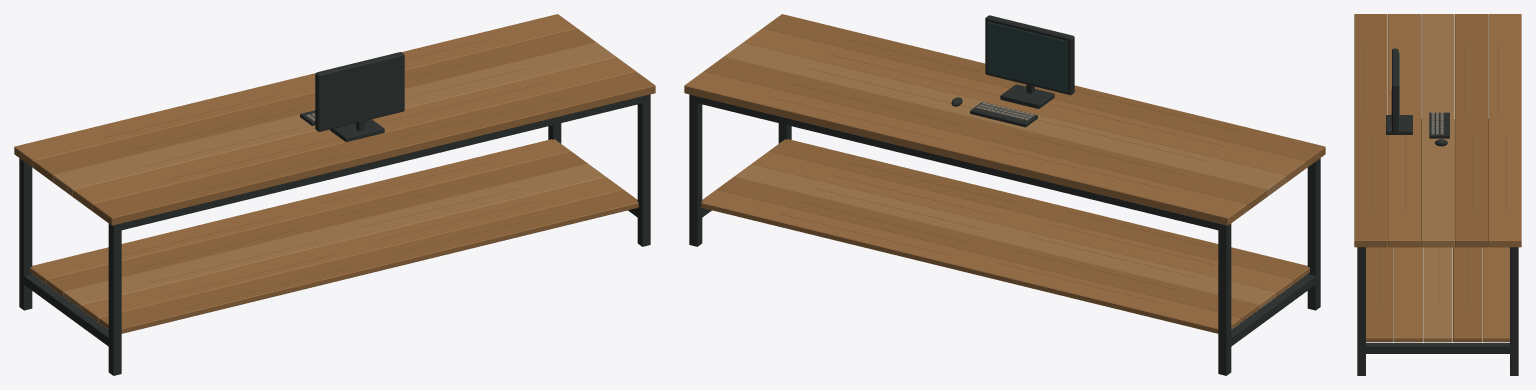
Rendered from workbench.glb.
3 renders of one model, left to right at view 1: azimuth 30°, elevation 25°; view 2: azimuth 150°, elevation 25°; view 3: azimuth 270°, elevation 25°, orthographic. The views are drawn at different scales.
Visible parts, largest first — view 1: body; view 2: body, screen; view 3: body, screen.
Part boxes in pixels (bbox=[...]): body: bbox=[14, 14, 655, 375]; body: bbox=[684, 14, 1325, 375]; screen: bbox=[987, 22, 1067, 91]; body: bbox=[1354, 14, 1521, 375]; screen: bbox=[1398, 53, 1399, 129].
Size of the model in its own units: 3.2 by 1.3 by 0.998.
